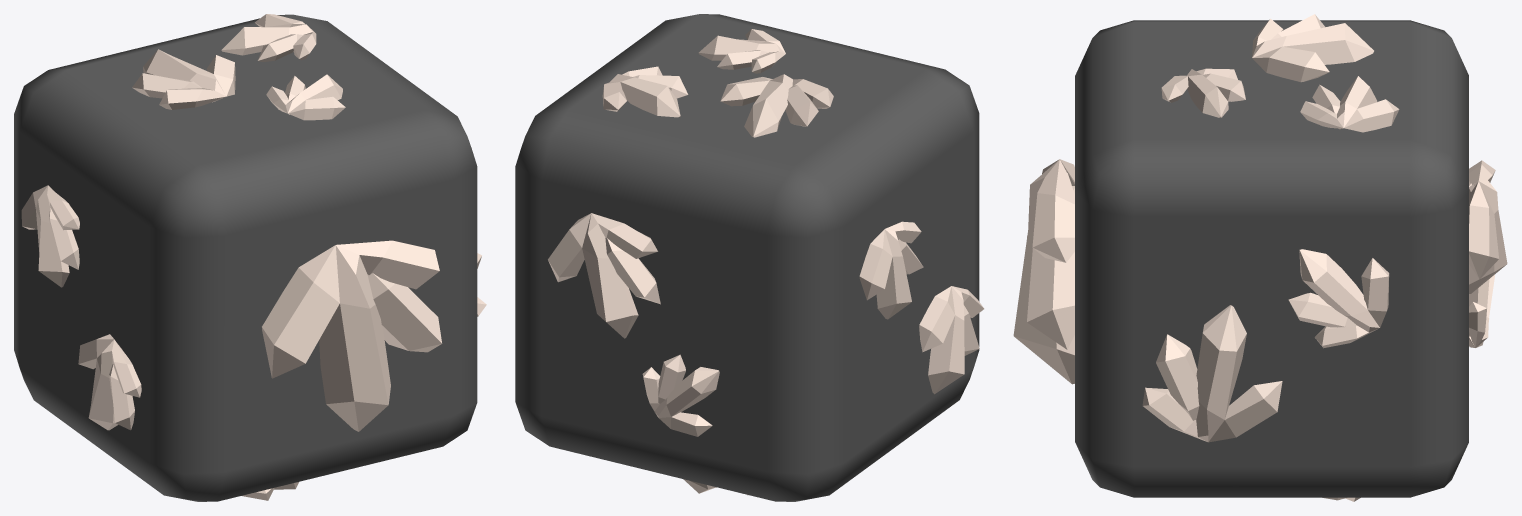
The model's file is SM_Quartz.fbx.
3 views of the same model, side by side, from view 1: azimuth 30°, elevation 25°; view 2: azimuth 150°, elevation 25°; view 3: azimuth 270°, elevation 25° (orthographic). The views are drawn at different scales.
Parts seen in each view (by area): view 1: Cube.021; view 2: Cube.021; view 3: Cube.021.
Part boxes in pixels (x1,y1,x2,y2): Cube.021: (14, 14, 486, 501); Cube.021: (515, 14, 984, 501); Cube.021: (1013, 14, 1507, 501).
Size of the model in its own units: 236 by 234 by 251.
